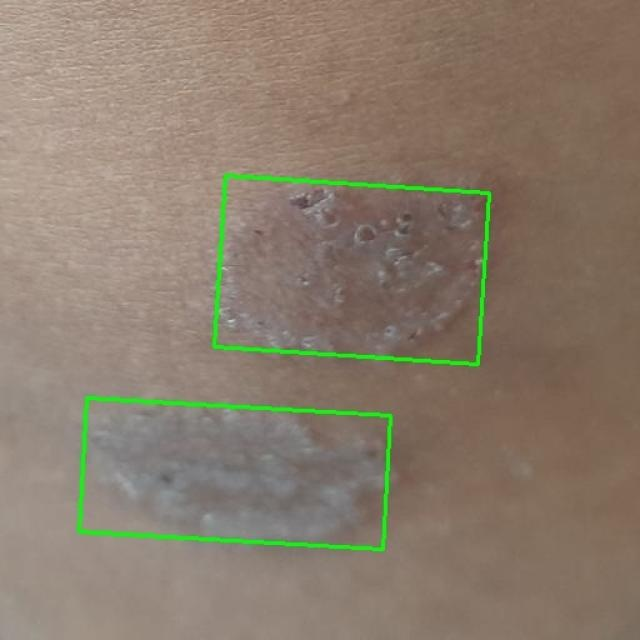Tinea Corporis: (214, 175, 490, 365), (80, 398, 391, 549)
